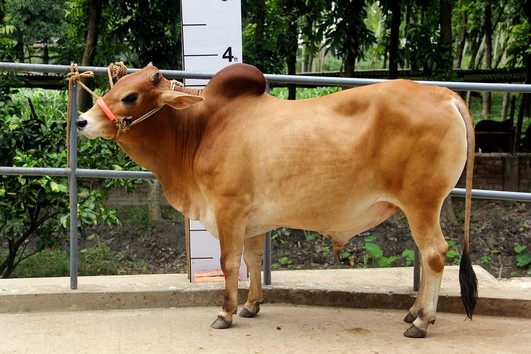cow: (68, 52, 485, 338)
